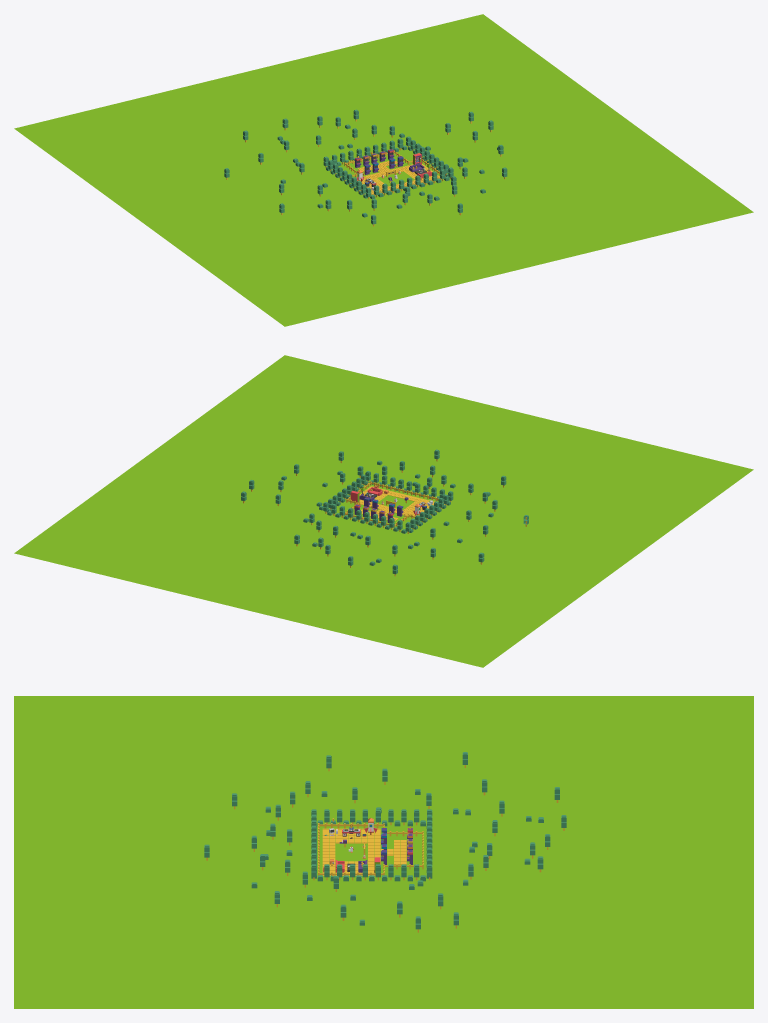
Rendered from arcade.glb.
3 renders of one model, top to bottom at view 1: azimuth 30°, elevation 25°; view 2: azimuth 150°, elevation 25°; view 3: azimuth 270°, elevation 25°, orthographic. The views are drawn at different scales.
Visible parts, largest first — view 1: Grass, Trees.001, Trees, Wood Floor; view 2: Grass, Trees, Trees.001, Wood Floor; view 3: Grass, Trees, Trees.001, Wood Floor, Fence.
Part boxes in pixels (x1,y1,x2,y2): Grass: (14, 14, 753, 326); Trees.001: (323, 136, 453, 199); Trees: (224, 109, 507, 226); Wood Floor: (357, 160, 439, 193); Grass: (14, 355, 753, 667); Trees: (241, 449, 528, 576); Trees.001: (323, 471, 453, 533); Wood Floor: (352, 486, 434, 520); Grass: (14, 696, 753, 1008); Trees: (204, 752, 566, 932); Trees.001: (311, 809, 432, 881); Wood Floor: (322, 828, 406, 875); Fence: (318, 823, 423, 875).
Bounding box in the file's own units: 227 × 5.52 × 227.
